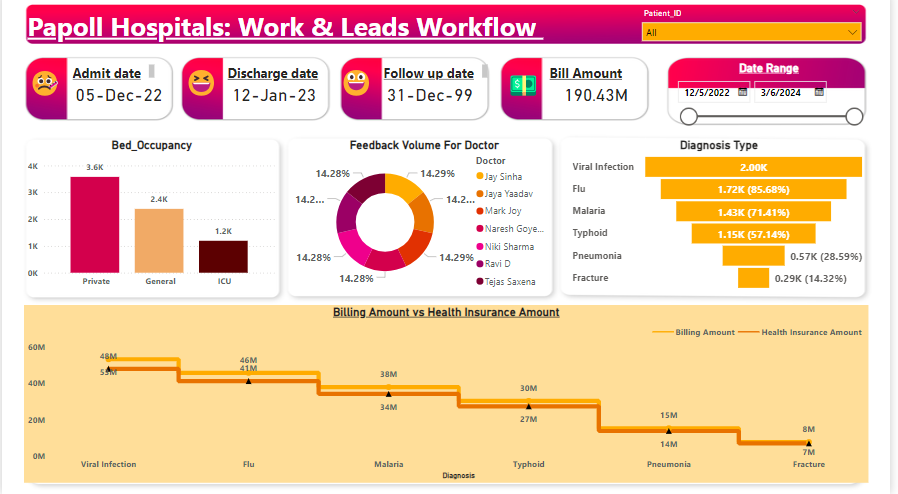

Layout of this report page (visuals, bound fields, positions):
{"tool":"powerbi","page":{"name":"Page 1","canvas":[1280,720],"ordinal":0},"visuals":[{"type":"textbox","box":[32,16,880,80],"z":0},{"type":"slicer","fields":{"Values":["Sheet1.Patient_ID"]},"box":[912,16,336,64],"z":1000},{"type":"card","fields":{"Values":["Sheet1.Admit_Date"]},"box":[96,128,144,32],"z":2000},{"type":"textbox","box":[96,96,128,32],"z":3000},{"type":"card","fields":{"Values":["Sheet1.Discharge_Date"]},"box":[320,128,144,32],"z":4000},{"type":"textbox","box":[320,96,144,64],"z":5000},{"type":"card","fields":{"Values":["Sheet1.Followup Date"]},"box":[544,128,144,32],"z":6000},{"type":"textbox","box":[544,96,160,32],"z":7000},{"type":"textbox","box":[784,96,144,48],"z":8000},{"type":"card","fields":{"Values":["Sheet1.Billing Amount"]},"box":[784,128,144,32],"z":9000},{"type":"slicer","title":"Date Range","fields":{"Values":["Sheet1.Admit_Date"]},"box":[960,96,288,96],"z":10000},{"type":"clusteredColumnChart","title":"Bed_Occupancy","fields":{"Category":["Sheet1.Bed_Occupancy"],"Y":["Sheet1.Bed_Occupancy"]},"box":[32,208,368,224],"z":11000},{"type":"donutChart","title":"Feedback Volume For Doctor","fields":{"Y":["Sheet1.Doctor"],"Category":["Sheet1.Doctor"]},"box":[416,208,384,224],"z":12000},{"type":"funnel","title":"Diagnosis Type","fields":{"Category":["Sheet1.Diagnosis"],"Y":["Sheet1.Diagnosis"]},"box":[816,208,432,224],"z":13000},{"type":"lineChart","title":"Billing Amount vs Health Insurance Amount ","fields":{"Y":["Sheet1.Billing Amount","Sheet1.Health Insurance Amount"],"Category":["Sheet1.Diagnosis"]},"box":[32,448,1216,256],"z":14000},{"type":"textbox","box":[32,96,80,64],"z":14001},{"type":"textbox","box":[720,96,80,64],"z":14002},{"type":"textbox","box":[480,96,64,64],"z":14003},{"type":"textbox","box":[256,96,80,64],"z":14004}]}

Visuals, with their boxes in screenshot pixels (x1, y1, x2, y2), scaled from the page's 1280x720 canvas onto the 898x494 screenshot:
textbox: 22:11:640:66
slicer - Sheet1.Patient_ID: 640:11:876:55
card - Sheet1.Admit_Date: 67:88:168:110
textbox: 67:66:157:88
card - Sheet1.Discharge_Date: 224:88:326:110
textbox: 224:66:326:110
card - Sheet1.Followup Date: 382:88:483:110
textbox: 382:66:494:88
textbox: 550:66:651:99
card - Sheet1.Billing Amount: 550:88:651:110
"Date Range" slicer: 674:66:876:132
"Bed_Occupancy" clusteredColumnChart: 22:143:281:296
"Feedback Volume For Doctor" donutChart: 292:143:561:296
"Diagnosis Type" funnel: 572:143:876:296
"Billing Amount vs Health Insurance Amount " lineChart: 22:307:876:483
textbox: 22:66:79:110
textbox: 505:66:561:110
textbox: 337:66:382:110
textbox: 180:66:236:110
